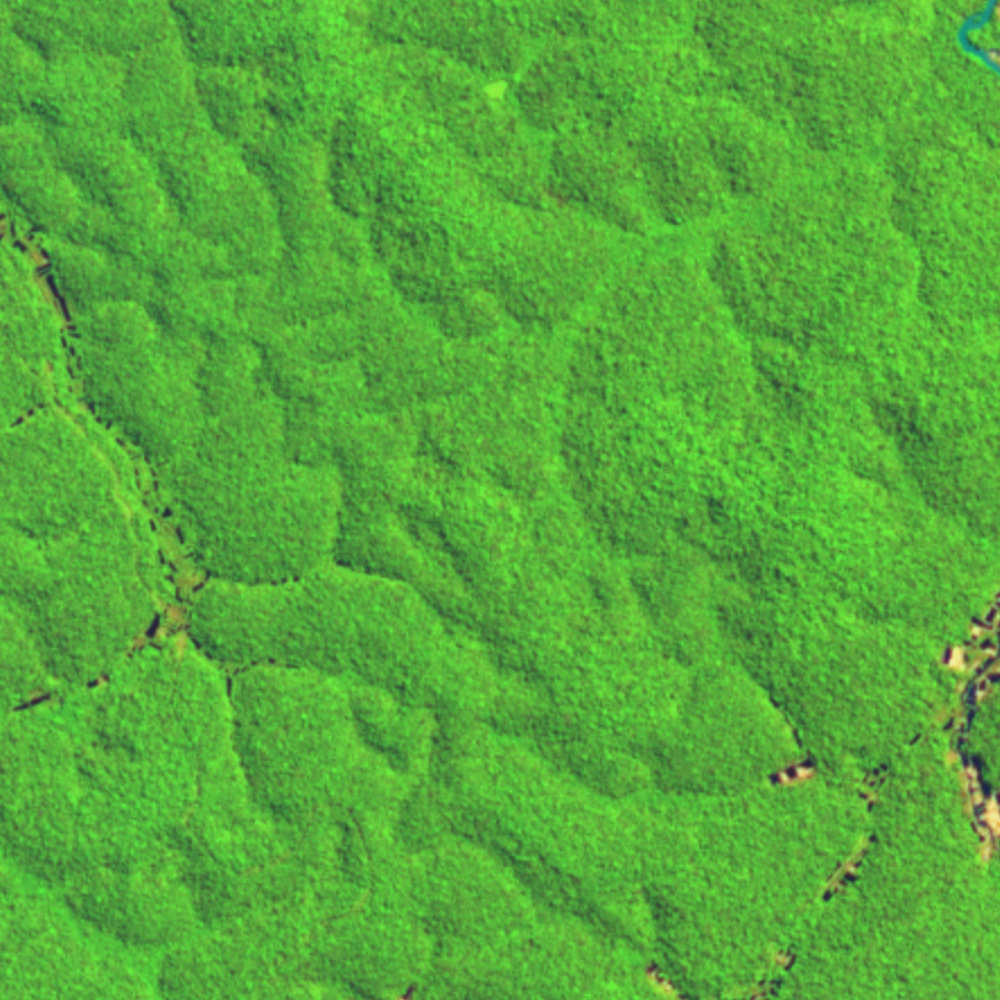illegal: (1, 190, 303, 726), (814, 730, 929, 908), (933, 588, 1000, 867), (758, 690, 831, 790), (740, 933, 810, 1000), (638, 956, 703, 1000), (330, 555, 367, 576), (398, 977, 421, 1000)
